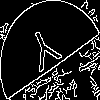Y: (25, 24, 66, 81)
